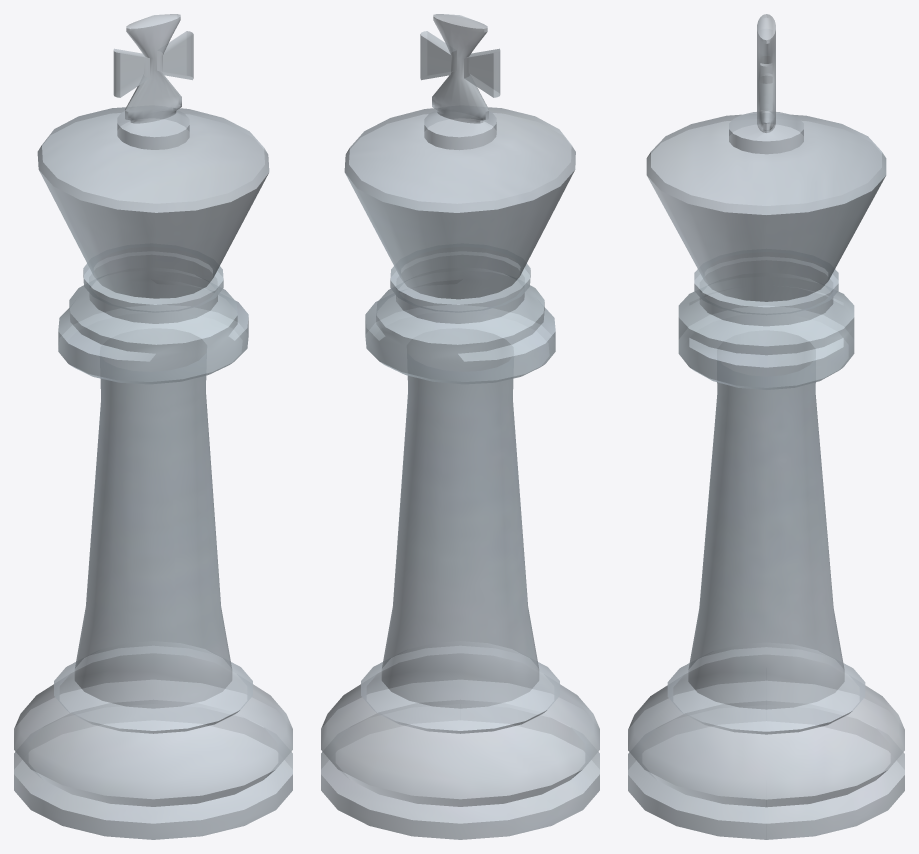
File: King.glb
The picture shows the model from 3 angles, left to right: view 1: azimuth 30°, elevation 25°; view 2: azimuth 150°, elevation 25°; view 3: azimuth 270°, elevation 25°; orthographic projection.
Parts seen in each view (by area): view 1: Chess_07 - Default_0; view 2: Chess_07 - Default_0; view 3: Chess_07 - Default_0.
Boxes of the visible parts, <box> form: Chess_07 - Default_0: <box>14,14,292,839</box>; Chess_07 - Default_0: <box>321,14,599,839</box>; Chess_07 - Default_0: <box>628,14,904,839</box>.
Bounding box in the file's own units: 0.4527 × 1.37 × 0.4458.
Materials: 1 (1 with a texture image).
